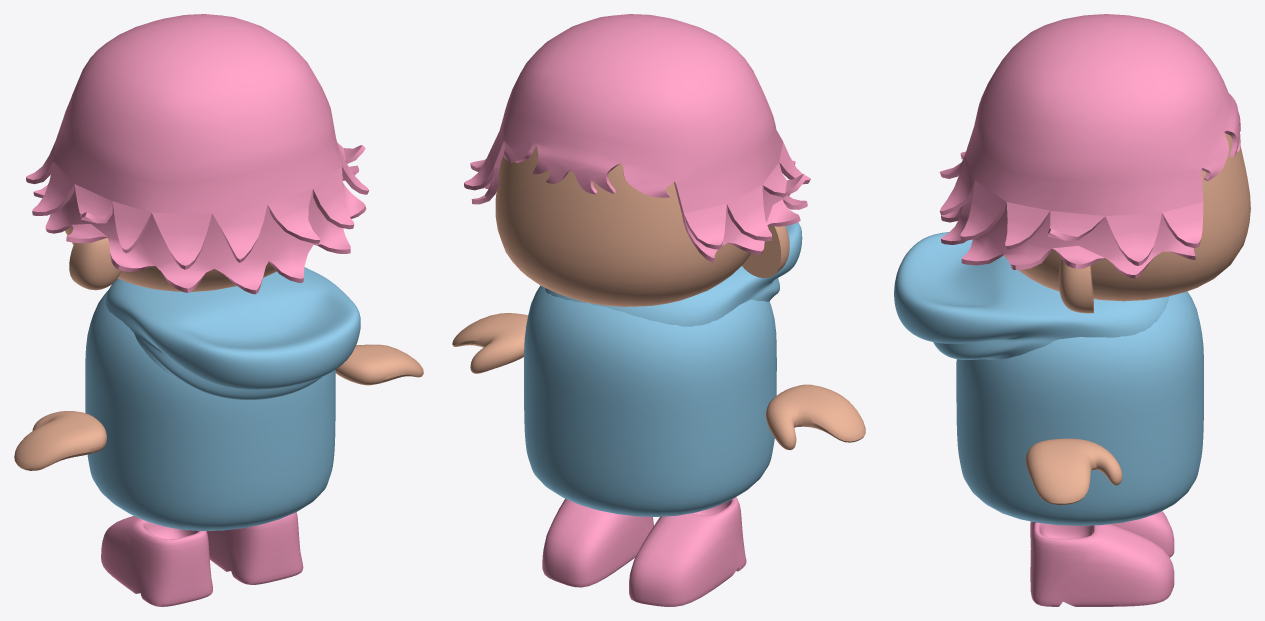
File: Character_VF.fbx
3 views of the same model, side by side, from view 1: azimuth 30°, elevation 25°; view 2: azimuth 150°, elevation 25°; view 3: azimuth 270°, elevation 25° (orthographic).
Visible parts, largest first — view 1: Hair_GEO, Torso_GEO, TorsoHood_GEO, Shoes_GEO, Hands_GEO, Ears_GEO, Head_GEO; view 2: Hair_GEO, Torso_GEO, Head_GEO, Shoes_GEO, Hands_GEO, TorsoHood_GEO, Ears_GEO; view 3: Hair_GEO, Torso_GEO, TorsoHood_GEO, Shoes_GEO, Head_GEO, Hands_GEO, Ears_GEO.
Boxes of the visible parts, box(x1,y1,x2,y2) form: Hair_GEO: box(26, 14, 369, 294); Torso_GEO: box(85, 290, 335, 531); TorsoHood_GEO: box(105, 267, 360, 399); Shoes_GEO: box(101, 512, 303, 606); Hands_GEO: box(14, 344, 423, 470); Ears_GEO: box(69, 238, 120, 290); Head_GEO: box(65, 227, 276, 291); Hair_GEO: box(464, 14, 810, 262); Torso_GEO: box(524, 285, 776, 516); Head_GEO: box(495, 146, 750, 306); Shoes_GEO: box(542, 497, 746, 606); Hands_GEO: box(452, 313, 865, 450); TorsoHood_GEO: box(544, 222, 802, 326); Ears_GEO: box(742, 226, 789, 277); Hair_GEO: box(939, 14, 1240, 278); Torso_GEO: box(956, 291, 1203, 525); TorsoHood_GEO: box(894, 232, 1169, 359); Shoes_GEO: box(1030, 511, 1174, 606); Head_GEO: box(1004, 133, 1250, 301); Hands_GEO: box(1025, 438, 1122, 504); Ears_GEO: box(1058, 259, 1093, 313).
Size of the model in its own units: 181 by 230 by 138.
